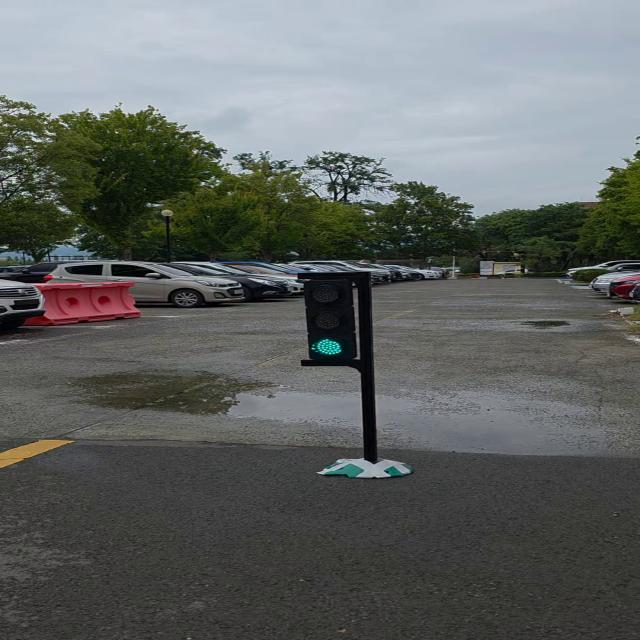green: (300, 272, 364, 366)
